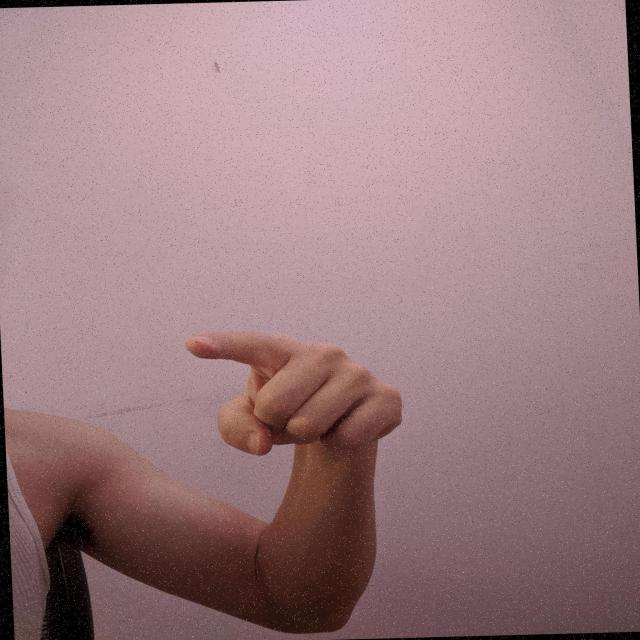Z: (178, 322, 410, 463)
